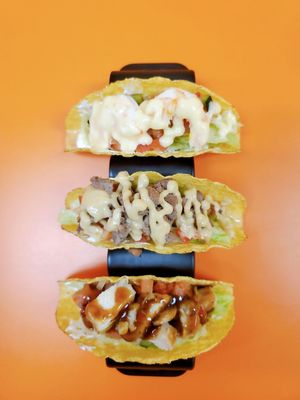soup: (58, 170, 248, 254)
